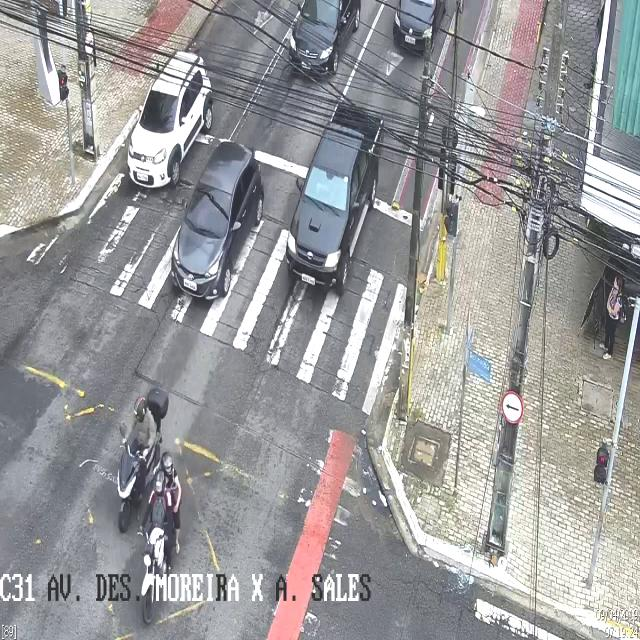Car: (287, 103, 383, 294), (172, 142, 264, 302), (128, 51, 212, 189), (288, 0, 360, 76), (392, 2, 446, 60)
Motorcycle: (118, 388, 170, 536), (140, 452, 182, 625)
